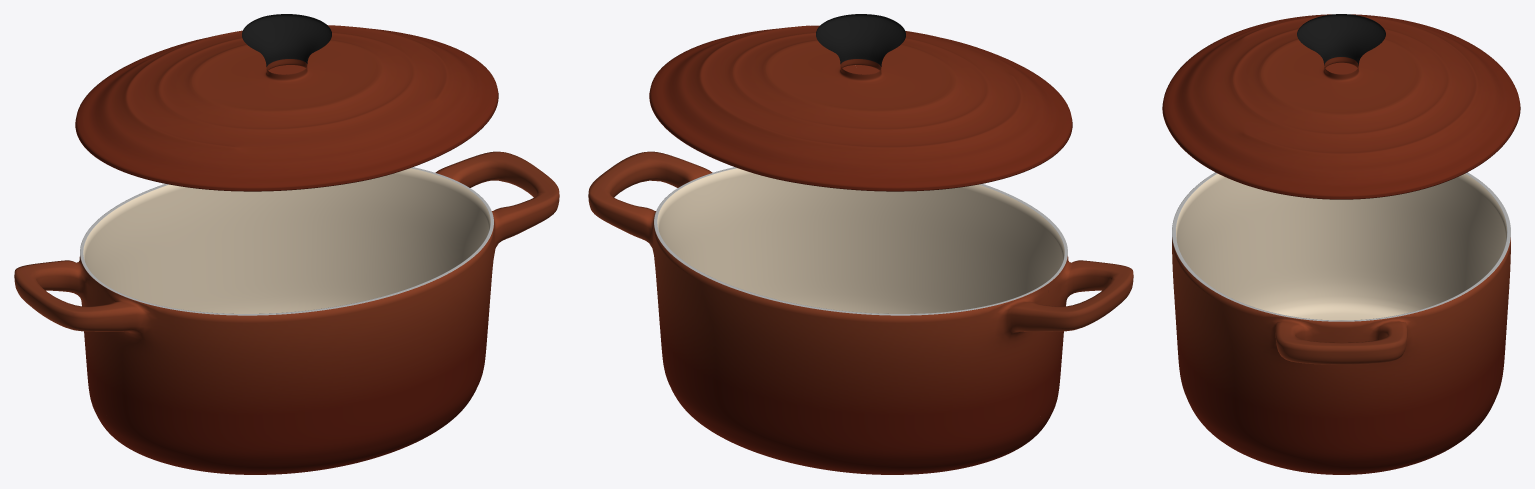
Rendered from dutch.fbx.
The picture shows the model from 3 angles, left to right: view 1: azimuth 30°, elevation 25°; view 2: azimuth 150°, elevation 25°; view 3: azimuth 270°, elevation 25°; orthographic projection. The views are drawn at different scales.
Parts seen in each view (by area): view 1: pot, llid; view 2: pot, llid; view 3: pot, llid.
Part boxes in pixels (left/top/right/bottom): pot: left=14, top=151, right=559, bottom=474; llid: left=75, top=14, right=498, bottom=191; pot: left=588, top=151, right=1133, bottom=474; llid: left=649, top=14, right=1072, bottom=191; pot: left=1172, top=172, right=1510, bottom=474; llid: left=1162, top=14, right=1520, bottom=199.
Bounding box in the file's own units: 0.3074 × 0.2222 × 0.1925.
